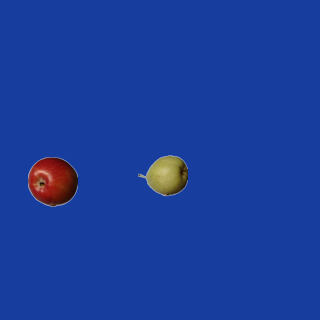Apple Braeburn: (27, 156, 77, 206)
Pear: (137, 150, 187, 200)
